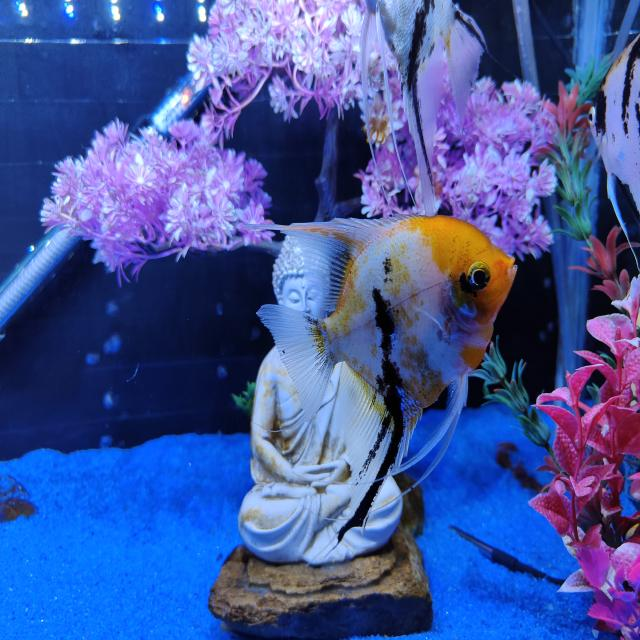Fish: (258, 216, 516, 539), (361, 0, 486, 215), (588, 37, 639, 241)
